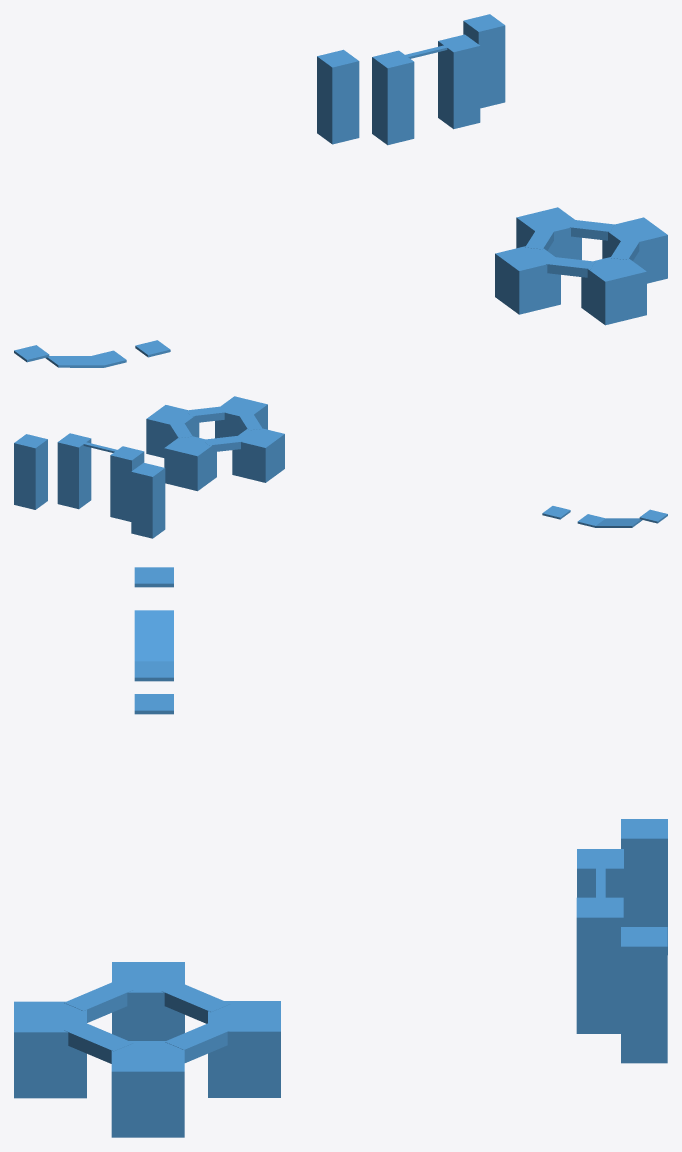
File: wip_dungeon1_blockout_icy.glb
3 views of the same model, one above another, from view 1: azimuth 30°, elevation 25°; view 2: azimuth 150°, elevation 25°; view 3: azimuth 270°, elevation 25° (orthographic). The views are drawn at different scales.
Parts seen in each view (by area): view 1: Cube.010; view 2: Cube.010; view 3: Cube.010.
Part boxes in pixels (<box>): Cube.010: <box>14,14,667,367</box>; Cube.010: <box>14,396,667,538</box>; Cube.010: <box>14,567,667,1137</box>.
Size of the model in its own units: 47.67 by 9.18 by 27.89.
